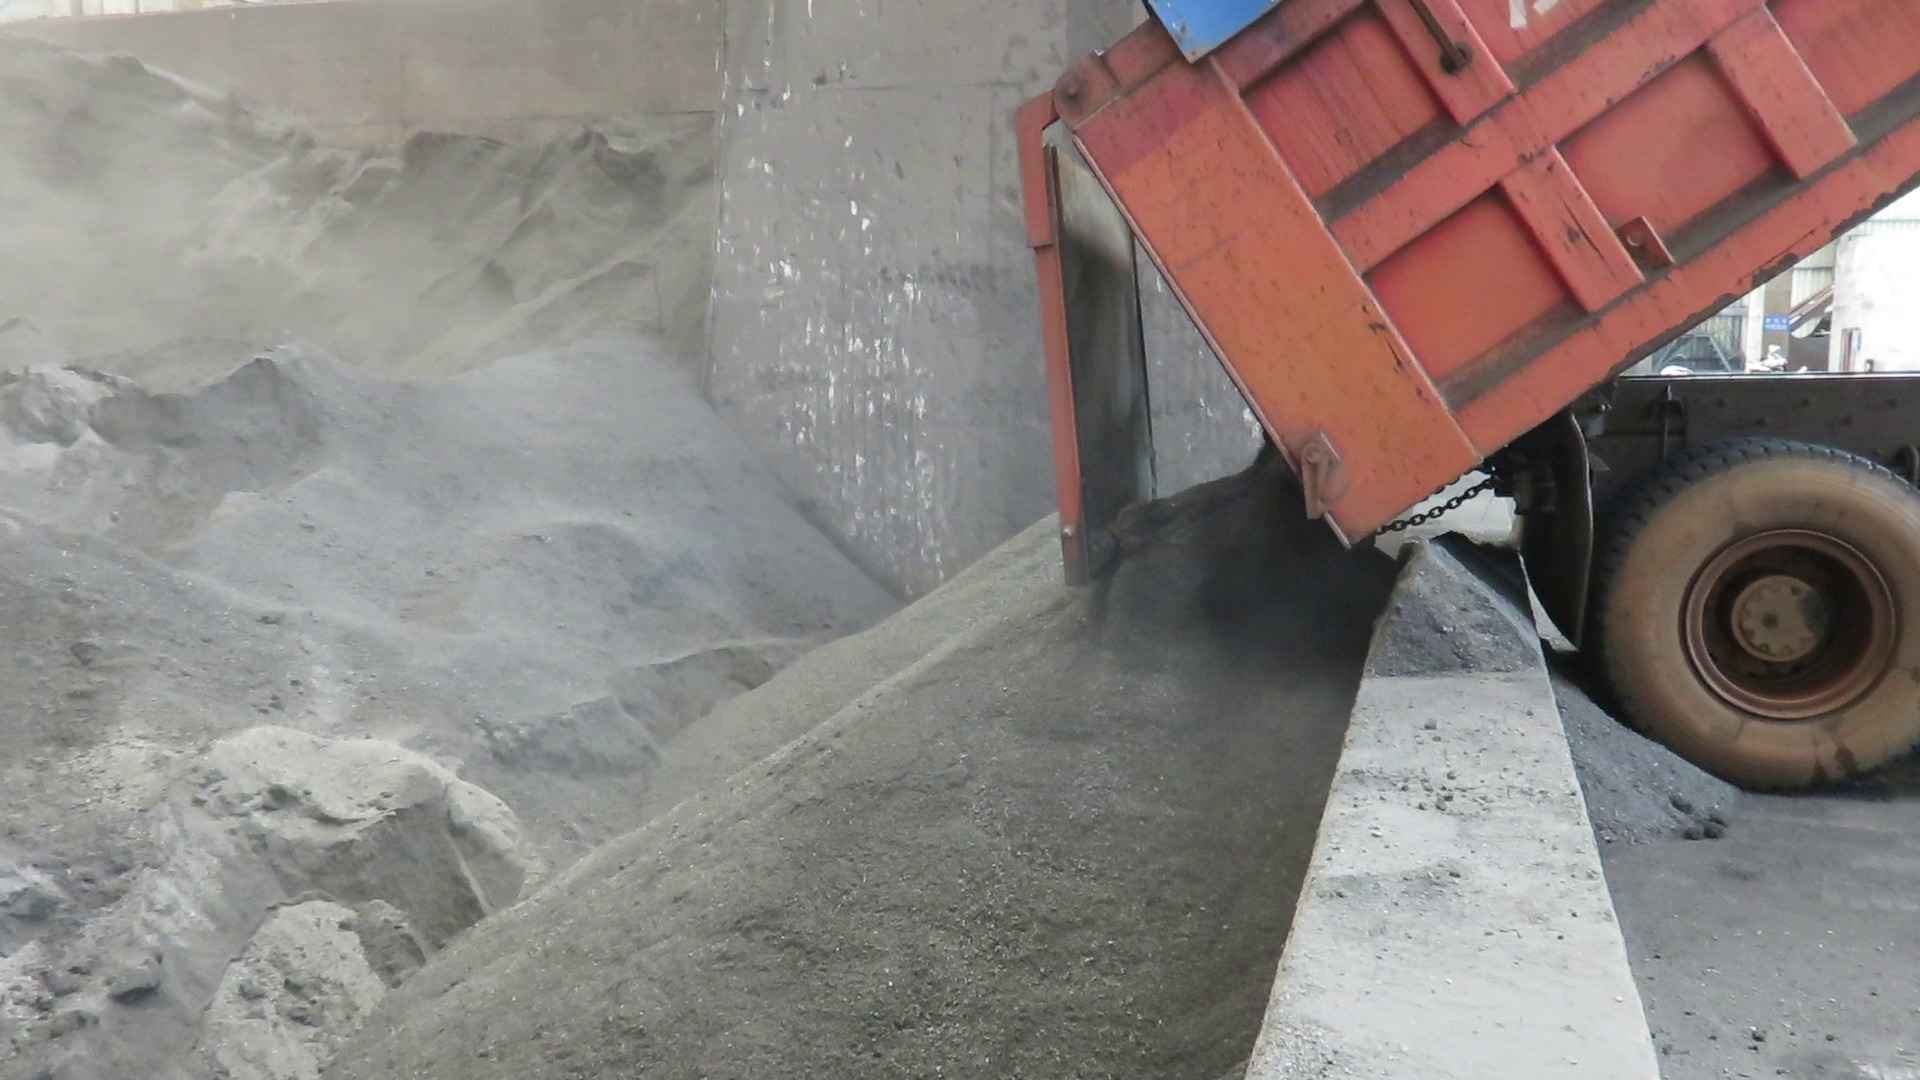dust: (7, 21, 1013, 793)
truck: (996, 0, 1919, 822)
